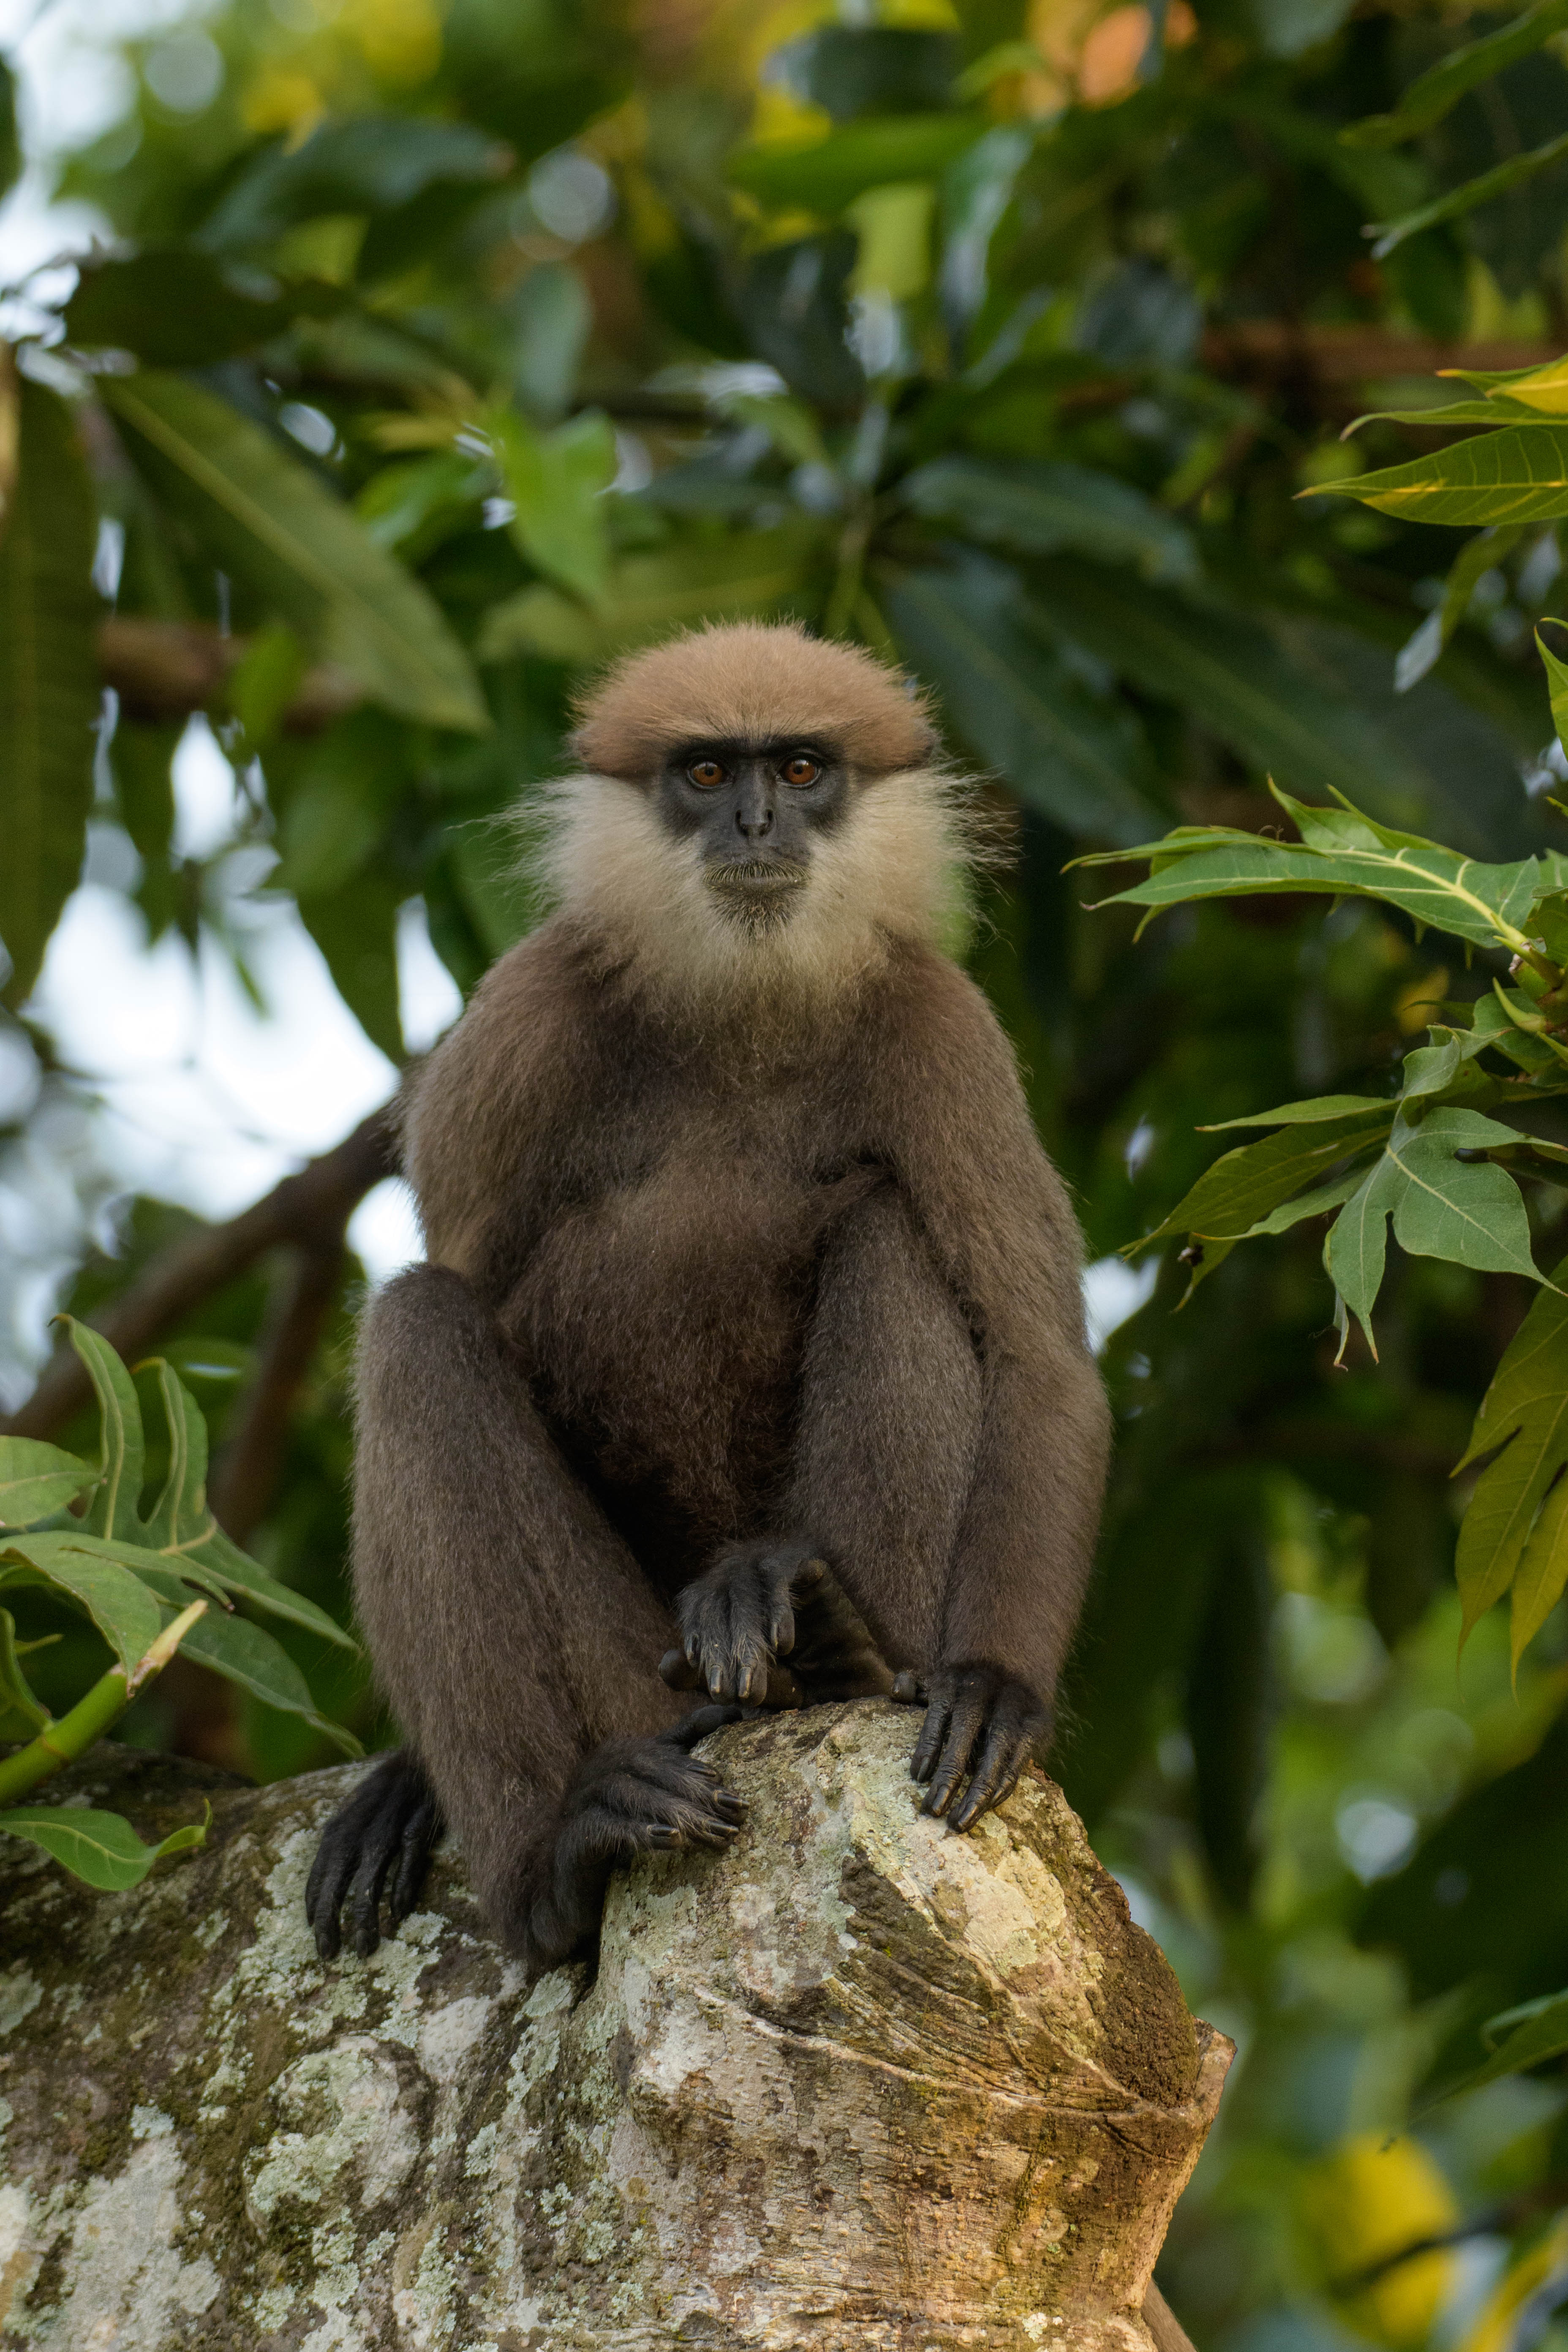Monkey: (292, 523, 1176, 1939)
